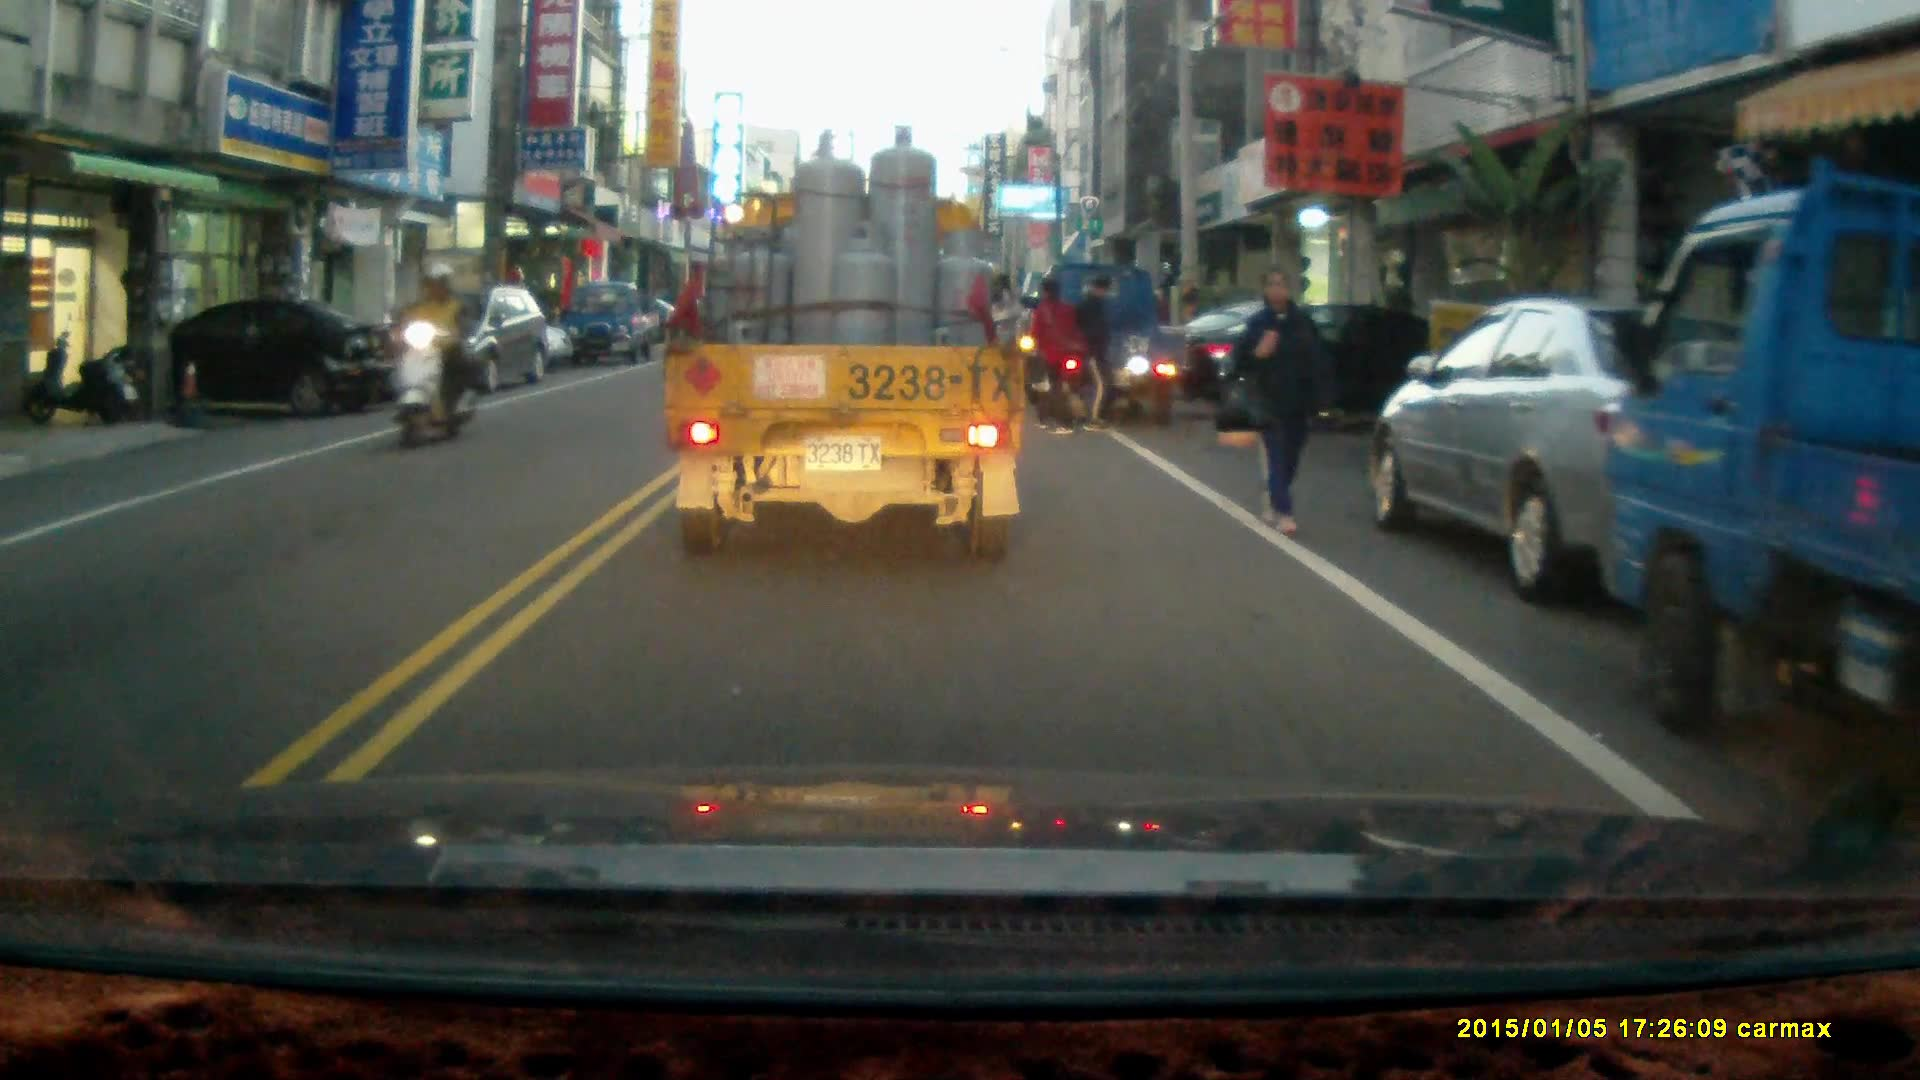pedestrian: (1233, 262, 1342, 534), (1058, 270, 1121, 428), (1025, 275, 1086, 432)
rider: (390, 260, 478, 452)
vehicle: (1604, 181, 1920, 804), (664, 124, 1028, 568), (1374, 297, 1775, 605), (1173, 297, 1488, 446), (78, 296, 401, 420), (1022, 261, 1192, 424), (388, 285, 551, 398), (566, 279, 663, 368)
